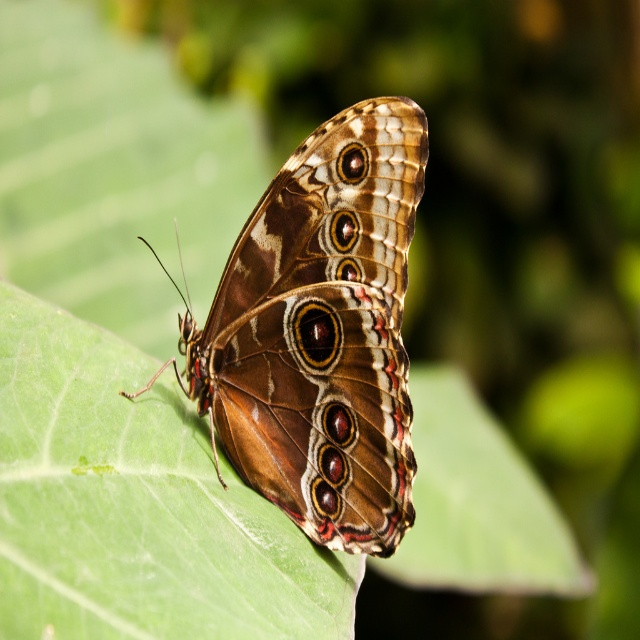Butterfly: (112, 79, 449, 579)
